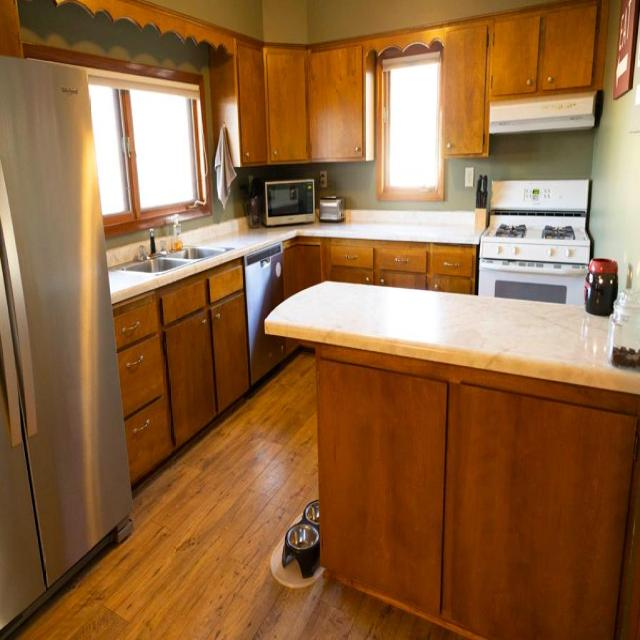dishwasher: (243, 241, 284, 387)
